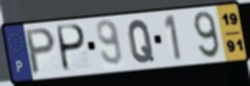1: (163, 13, 183, 63)
9: (191, 10, 222, 60), (97, 19, 126, 71)
P: (24, 26, 57, 78), (57, 23, 88, 74)
Q: (127, 18, 156, 65)
